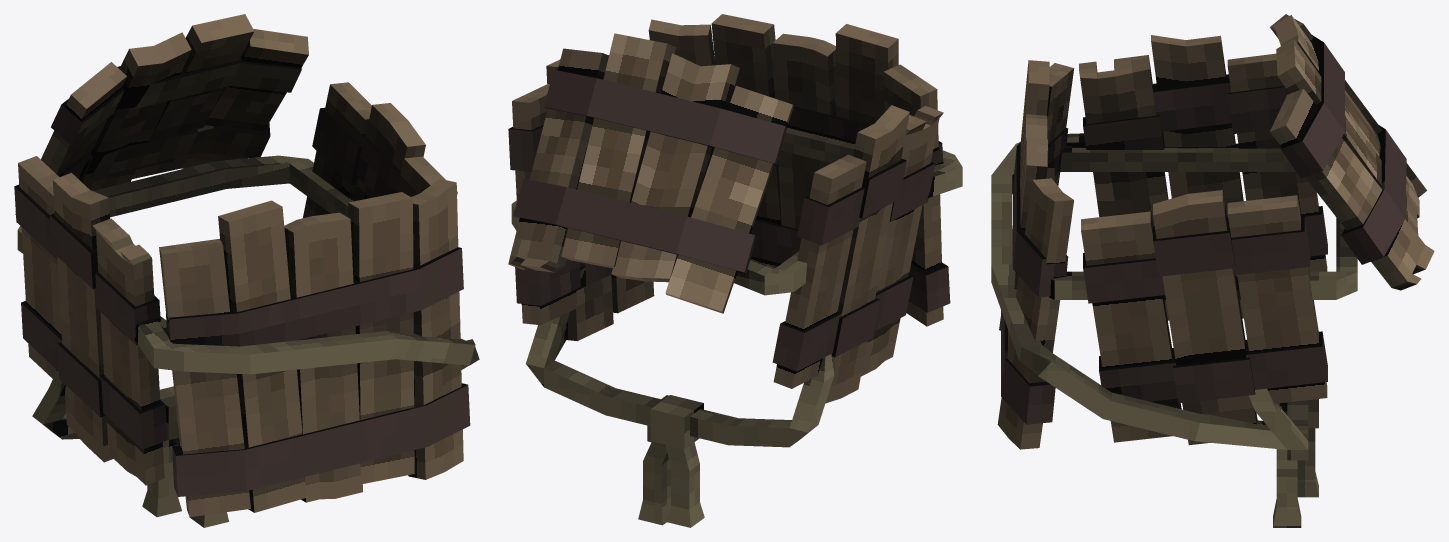
3 renders of one model, left to right at view 1: azimuth 30°, elevation 25°; view 2: azimuth 150°, elevation 25°; view 3: azimuth 270°, elevation 25°, orthographic. The views are drawn at different scales.
Visible parts, largest first — view 1: head; view 2: head; view 3: head.
Boxes of the visible parts, box(x1,y1,x2,y2) form: head: box(14, 14, 479, 527); head: box(508, 14, 962, 527); head: box(991, 14, 1434, 527).
Bounding box in the file's own units: 0.6695 × 0.9334 × 0.7868.
Materials: 1 (1 with a texture image).
